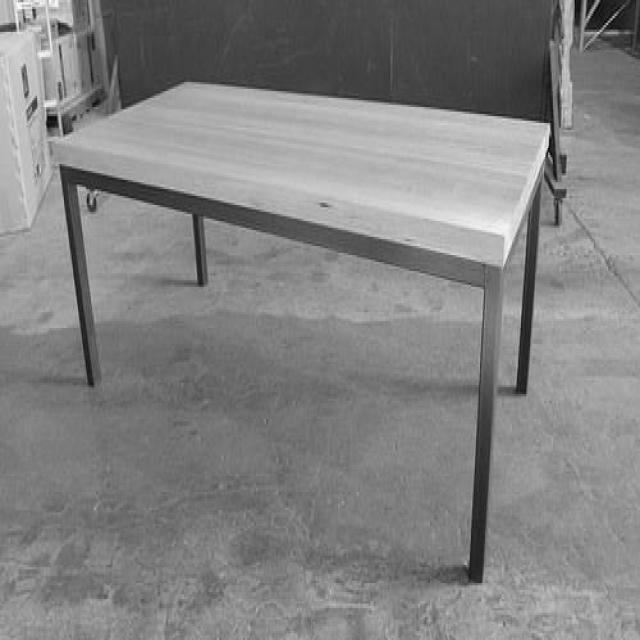table: (49, 76, 552, 581)
